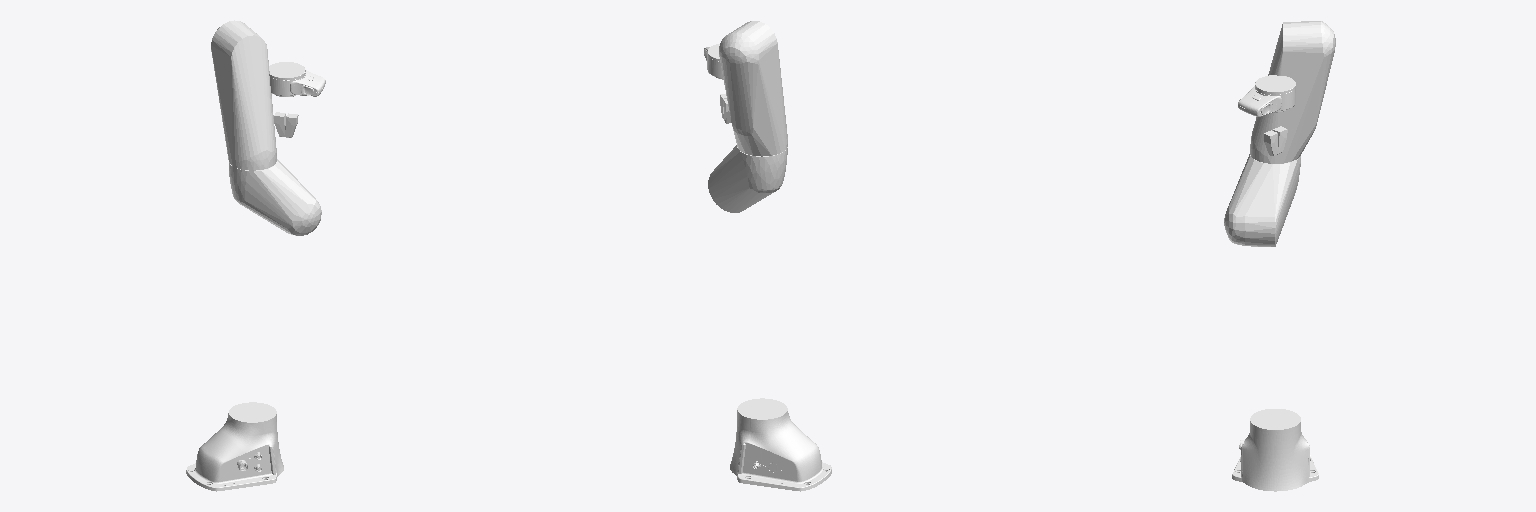
URDF robot description (panda):
<?xml version="1.0" ?>
<!-- =================================================================================== -->
<!-- |    This document was autogenerated by xacro from panda_arm_hand.urdf.xacro      | -->
<!-- |    EDITING THIS FILE BY HAND IS NOT RECOMMENDED                                 | -->
<!-- =================================================================================== -->
<robot name="panda" xmlns:xacro="http://www.ros.org/wiki/xacro">
  <link name="world"/>
  <joint name="arm_to_world_fixed" type="fixed">
    <parent link="world"/>
    <child link="panda_link0"/>
    <origin xyz="0 0 0" rpy="0 0 0" />
  </joint>
  <link name="panda_link0">
    <visual>
      <geometry>
        <mesh filename="./meshes/visual/link0.obj"/>
      </geometry>
      <material name="panda_white"/>
    </visual>
    <collision>
      <geometry>
        <mesh filename="./meshes/collision/link0.obj"/>
      </geometry>
      <material name="panda_white"/>
    </collision>
  </link>
  <link name="panda_link1">
    <visual>
      <geometry>
        <mesh filename="./meshes/visual/link1.obj"/>
      </geometry>
      <material name="panda_white"/>
    </visual>
    <collision>
      <geometry>
        <mesh filename="./meshes/collision/link1.obj"/>
      </geometry>
      <material name="panda_white"/>
    </collision>
  </link>
  <joint name="panda_joint1" type="revolute">
    <safety_controller k_position="100.0" k_velocity="40.0" soft_lower_limit="-2.8973" soft_upper_limit="2.8973"/>
    <origin rpy="0 0 0" xyz="0 0 0.333"/>
    <parent link="panda_link0"/>
    <child link="panda_link1"/>
    <axis xyz="0 0 1"/>
    <limit effort="87" lower="-2.9671" upper="2.9671" velocity="2.1750"/>
  </joint>
  <link name="panda_link2">
    <visual>
      <geometry>
        <mesh filename="./meshes/visual/link2.obj"/>
      </geometry>
      <material name="panda_white"/>
    </visual>
    <collision>
      <geometry>
        <mesh filename="./meshes/collision/link2.obj"/>
      </geometry>
      <material name="panda_white"/>
    </collision>
  </link>
  <joint name="panda_joint2" type="revolute">
    <safety_controller k_position="100.0" k_velocity="40.0" soft_lower_limit="-1.7628" soft_upper_limit="1.7628"/>
    <origin rpy="-1.57079632679 0 0" xyz="0 0 0"/>
    <parent link="panda_link1"/>
    <child link="panda_link2"/>
    <axis xyz="0 0 1"/>
    <limit effort="87" lower="-1.8326" upper="1.8326" velocity="2.1750"/>
  </joint>
  <link name="panda_link3">
    <visual>
      <geometry>
        <mesh filename="./meshes/visual/link3.obj"/>
      </geometry>
      <material name="panda_white"/>
    </visual>
    <collision>
      <geometry>
        <mesh filename="./meshes/collision/link3.obj"/>
      </geometry>
      <material name="panda_white"/>
    </collision>
  </link>
  <joint name="panda_joint3" type="revolute">
    <safety_controller k_position="100.0" k_velocity="40.0" soft_lower_limit="-2.8973" soft_upper_limit="2.8973"/>
    <origin rpy="1.57079632679 0 0" xyz="0 -0.316 0"/>
    <parent link="panda_link2"/>
    <child link="panda_link3"/>
    <axis xyz="0 0 1"/>
    <limit effort="87" lower="-2.9671" upper="2.9671" velocity="2.1750"/>
  </joint>
  <link name="panda_link4">
    <visual>
      <geometry>
        <mesh filename="./meshes/visual/link4.obj"/>
      </geometry>
      <material name="panda_white"/>
    </visual>
    <collision>
      <geometry>
        <mesh filename="./meshes/collision/link4.obj"/>
      </geometry>
      <material name="panda_white"/>
    </collision>
  </link>
  <joint name="panda_joint4" type="revolute">
    <safety_controller k_position="100.0" k_velocity="40.0" soft_lower_limit="-3.0718" soft_upper_limit="-0.0698"/>
    <origin rpy="1.57079632679 0 0" xyz="0.0825 0 0"/>
    <parent link="panda_link3"/>
    <child link="panda_link4"/>
    <axis xyz="0 0 1"/>
    <limit effort="87" lower="-3.1416" upper="0.0" velocity="2.1750"/>
  </joint>
  <link name="panda_link5">
    <visual>
      <geometry>
        <mesh filename="./meshes/visual/link5.obj"/>
      </geometry>
      <material name="panda_white"/>
    </visual>
    <collision>
      <geometry>
        <mesh filename="./meshes/collision/link5.obj"/>
      </geometry>
      <material name="panda_white"/>
    </collision>
  </link>
  <joint name="panda_joint5" type="revolute">
    <safety_controller k_position="100.0" k_velocity="40.0" soft_lower_limit="-2.8973" soft_upper_limit="2.8973"/>
    <origin rpy="-1.57079632679 0 0" xyz="-0.0825 0.384 0"/>
    <parent link="panda_link4"/>
    <child link="panda_link5"/>
    <axis xyz="0 0 1"/>
    <limit effort="12" lower="-2.9671" upper="2.9671" velocity="2.6100"/>
  </joint>
  <link name="panda_link6">
    <visual>
      <geometry>
        <mesh filename="./meshes/visual/link6.obj"/>
      </geometry>
      <material name="panda_white"/>
    </visual>
    <collision>
      <geometry>
        <mesh filename="./meshes/collision/link6.obj"/>
      </geometry>
      <material name="panda_white"/>
    </collision>
  </link>
  <joint name="panda_joint6" type="revolute">
    <safety_controller k_position="100.0" k_velocity="40.0" soft_lower_limit="-0.0175" soft_upper_limit="3.7525"/>
    <origin rpy="1.57079632679 0 0" xyz="0 0 0"/>
    <parent link="panda_link5"/>
    <child link="panda_link6"/>
    <axis xyz="0 0 1"/>
    <limit effort="12" lower="-0.0873" upper="3.8223" velocity="2.6100"/>
  </joint>
  <link name="panda_link7">
    <visual>
      <geometry>
        <mesh filename="./meshes/visual/link7.obj"/>
      </geometry>
      <material name="panda_white"/>
    </visual>
    <collision>
      <geometry>
        <mesh filename="./meshes/collision/link7.obj"/>
      </geometry>
      <material name="panda_white"/>
    </collision>
  </link>
  <joint name="panda_joint7" type="revolute">
    <safety_controller k_position="100.0" k_velocity="40.0" soft_lower_limit="-2.8973" soft_upper_limit="2.8973"/>
    <origin rpy="1.57079632679 0 0" xyz="0.088 0 0"/>
    <parent link="panda_link6"/>
    <child link="panda_link7"/>
    <axis xyz="0 0 1"/>
    <limit effort="12" lower="-2.9671" upper="2.9671" velocity="2.6100"/>
  </joint>
  <!-- <link name="panda_link8"/>
  <joint name="panda_joint8" type="fixed">
    <origin rpy="0 0 0" xyz="0 0 0.107"/>
    <parent link="panda_link7"/>
    <child link="panda_link8"/>
    <axis xyz="0 0 0"/>
  </joint> -->
  <link name="panda_hand">
    <visual>
      <geometry>
        <mesh filename="./meshes/visual/hand.obj"/>
      </geometry>
      <material name="panda_white"/>
    </visual>
    <collision>
      <geometry>
        <mesh filename="./meshes/collision/hand.obj"/>
      </geometry>
      <material name="panda_white"/>
    </collision>
  </link>
  <joint name="panda_hand_joint" type="fixed">
    <parent link="panda_link7"/>
    <child link="panda_hand"/>
    <origin rpy="0 0 -0.785398163397" xyz="0 0 0.107"/>
    <axis xyz="0 0 0"/>
  </joint>
  <link name="panda_leftfinger">
    <visual>
      <geometry>
        <mesh filename="./meshes/visual/finger.obj"/>
      </geometry>
      <material name="panda_white"/>
    </visual>
    <collision>
      <geometry>
        <mesh filename="./meshes/collision/finger.obj"/>
      </geometry>
      <material name="panda_white"/>
    </collision>
  </link>
  <link name="panda_rightfinger">
    <visual>
      <origin rpy="0 0 0" xyz="0 0 0"/>
      <geometry>
        <mesh filename="./meshes/visual/finger.obj"/>
      </geometry>
      <material name="panda_white"/>
    </visual>
    <collision>
      <origin rpy="0 0 0" xyz="0 0 0"/>
      <geometry>
        <mesh filename="./meshes/collision/finger.obj"/>
      </geometry>
      <material name="panda_white"/>
    </collision>
  </link>
  <joint name="panda_finger_joint1" type="prismatic">
    <parent link="panda_hand"/>
    <child link="panda_leftfinger"/>
    <origin rpy="0 0 0" xyz="0 0 0.0584"/>
    <axis xyz="0 1 0"/>
    <limit effort="20" lower="0.0" upper="0.04" velocity="0.2"/>
  </joint>
  <joint name="panda_finger_joint2" type="prismatic">
    <parent link="panda_hand"/>
    <child link="panda_rightfinger"/>
    <origin rpy="0 0 3.14159265359" xyz="0 0 0.0584"/>
    <axis xyz="0 1 0"/>
    <limit effort="20" lower="0.0" upper="0.04" velocity="0.2"/>
    <mimic joint="panda_finger_joint1"/>
  </joint>
  <material name="panda_white">
    <color rgba="1. 1. 1. 1."/>
  </material>
</robot>

--- Render facts (derived) ---
The picture shows the robot from 3 angles, left to right: view 1: azimuth 30°, elevation 25°; view 2: azimuth 150°, elevation 25°; view 3: azimuth 270°, elevation 25°; orthographic projection.
Robot: panda — 12 links, 11 joints (7 revolute, 2 prismatic, 2 fixed); root link world; default pose: all joints at 0.
Links seen in each view (by area): view 1: panda_link5, panda_link0, panda_link4, panda_link7; view 2: panda_link5, panda_link0, panda_link4; view 3: panda_link5, panda_link0, panda_link4, panda_link7.
Link boxes in pixels (box(x1,y1,x2,y2)): panda_link5: box(211, 20, 276, 170); panda_link0: box(186, 402, 283, 491); panda_link4: box(229, 159, 321, 235); panda_link7: box(269, 62, 325, 96); panda_link5: box(719, 21, 787, 156); panda_link0: box(730, 398, 831, 491); panda_link4: box(708, 145, 787, 212); panda_link5: box(1250, 21, 1335, 163); panda_link0: box(1232, 409, 1318, 491); panda_link4: box(1224, 154, 1300, 246); panda_link7: box(1238, 75, 1295, 116).
Size in the robot's own frame: 0.3234 by 0.241 by 1.09 metres.
6 mesh visuals loaded from 10 distinct referenced files (5 OBJ); not drawn: 5 (reference not matched to a file when rendering).
